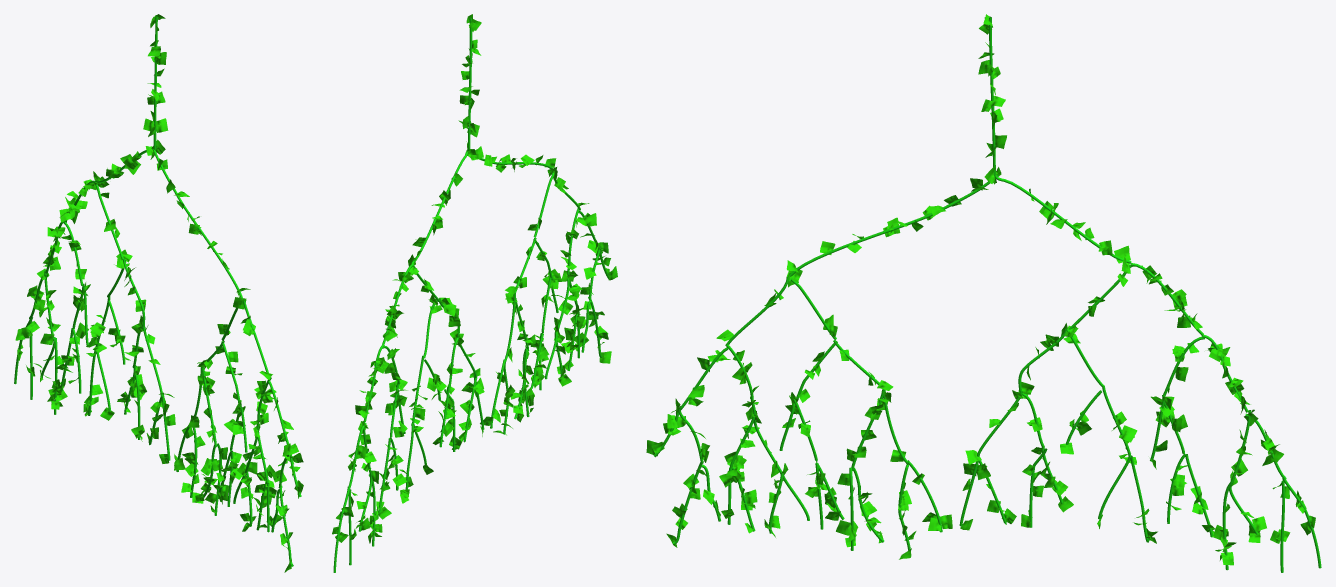
File: vine6.fbx
3 renders of one model, left to right at view 1: azimuth 30°, elevation 25°; view 2: azimuth 150°, elevation 25°; view 3: azimuth 270°, elevation 25°, orthographic. The views are drawn at different scales.
Parts seen in each view (by area): view 1: BézierCurve.006; view 2: BézierCurve.006; view 3: BézierCurve.006.
Boxes of the visible parts, x1,y1,x2,y2 form: BézierCurve.006: (14,14,303,572); BézierCurve.006: (332,14,617,572); BézierCurve.006: (646,14,1321,572).
Size of the model in its own units: 28.07 by 530 by 581.
